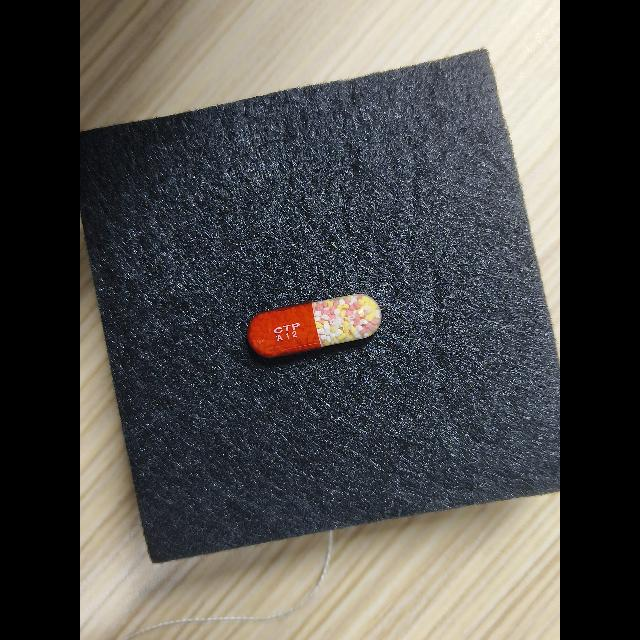Intact Capsule: (248, 294, 381, 358)
